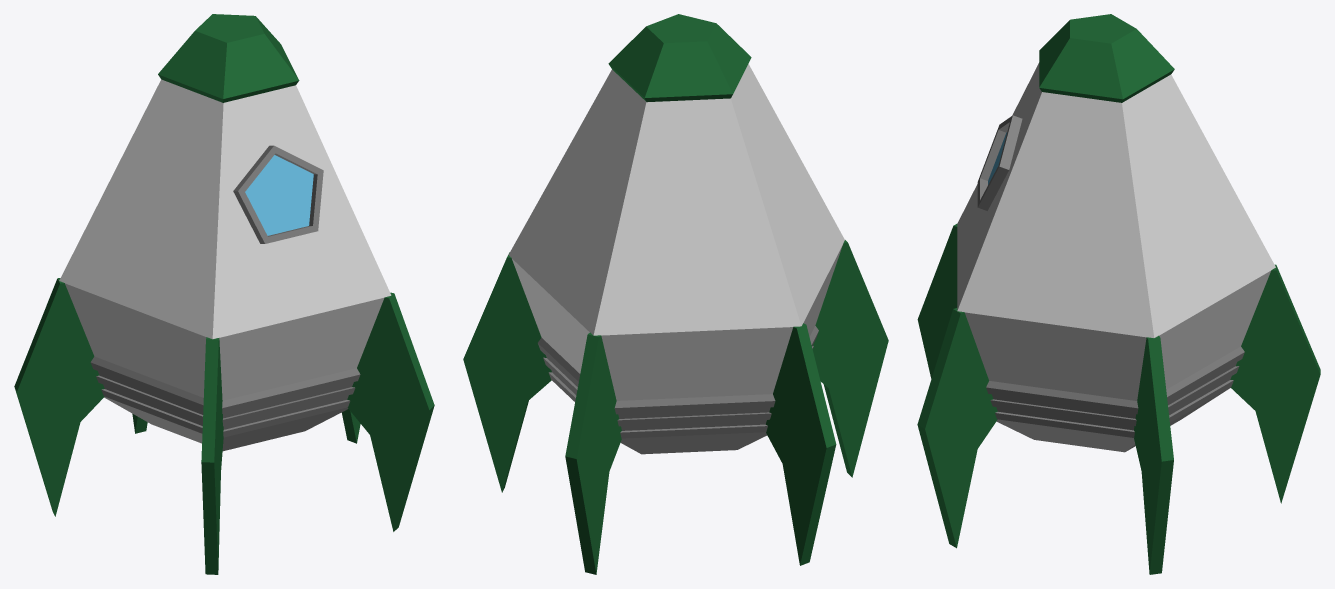
Rendered from RocketGreen.fbx.
The picture shows the model from 3 angles, left to right: view 1: azimuth 30°, elevation 25°; view 2: azimuth 150°, elevation 25°; view 3: azimuth 270°, elevation 25°; orthographic projection.
Parts seen in each view (by area): view 1: Rocket; view 2: Rocket; view 3: Rocket.
Part boxes in pixels (x1,y1,x2,y2): Rocket: [14, 14, 434, 574]; Rocket: [463, 14, 888, 574]; Rocket: [917, 14, 1320, 574].
Bounding box in the file's own units: 327 × 402 × 311.
